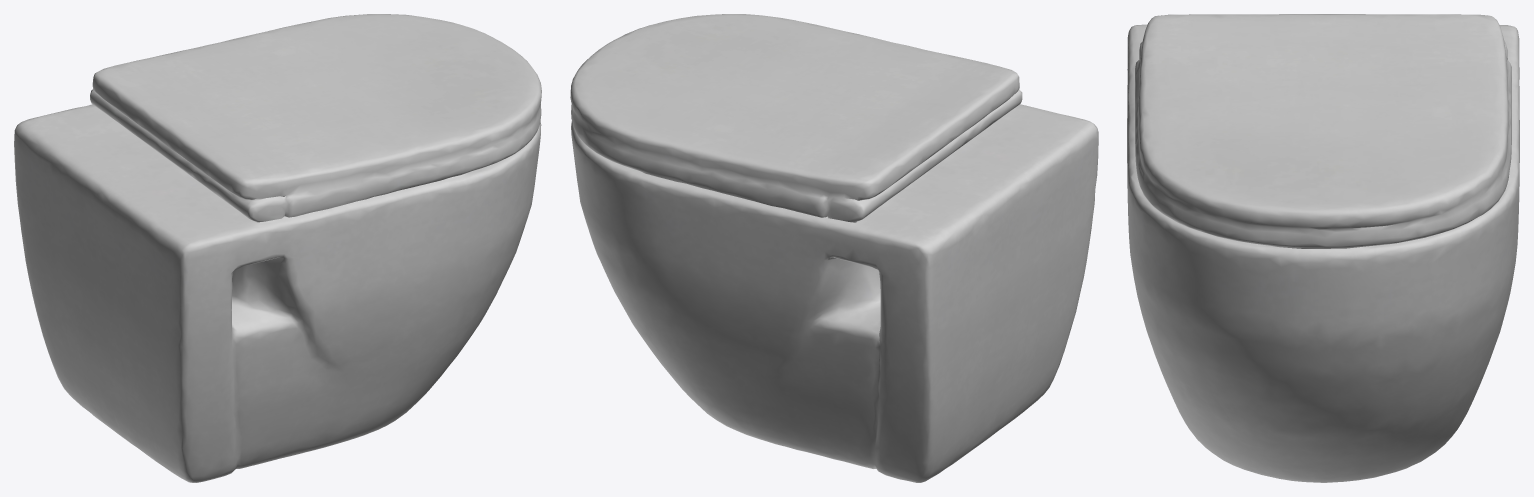
File: klo.glb
The picture shows the model from 3 angles, left to right: view 1: azimuth 30°, elevation 25°; view 2: azimuth 150°, elevation 25°; view 3: azimuth 270°, elevation 25°; orthographic projection. The views are drawn at different scales.
Parts seen in each view (by area): view 1: world; view 2: world; view 3: world.
Part boxes in pixels (x1,y1,x2,y2): world: (14,14,541,482); world: (570,14,1098,482); world: (1127,14,1519,482).
Size of the model in its own units: 1.01 by 0.6991 by 0.7164.
Materials: 1 (1 with a texture image).
